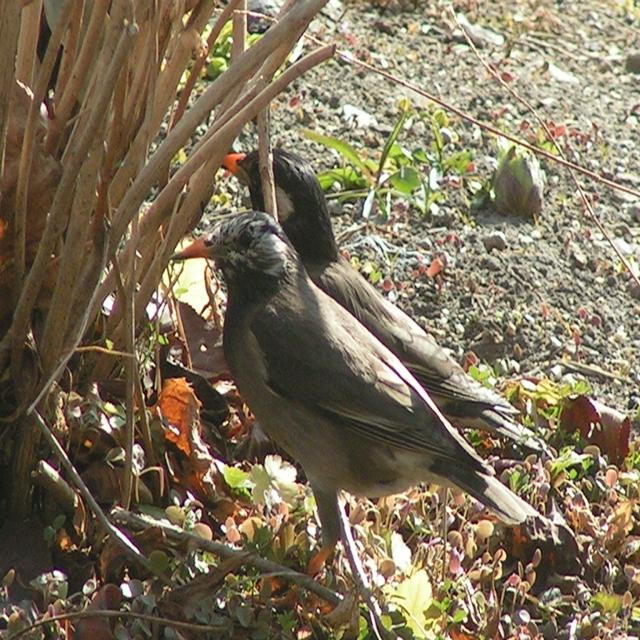bird: (165, 229, 542, 555), (220, 146, 554, 455)
